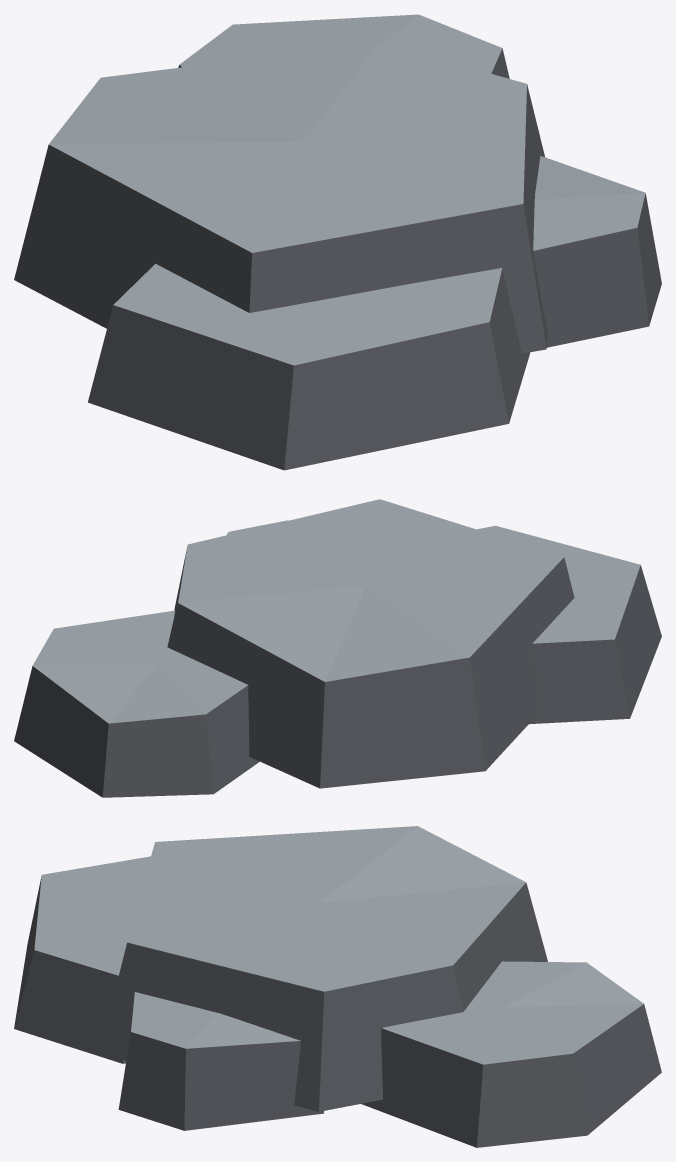
3 renders of one model, top to bottom at view 1: azimuth 30°, elevation 25°; view 2: azimuth 150°, elevation 25°; view 3: azimuth 270°, elevation 25°, orthographic. The views are drawn at different scales.
Visible parts, largest first — view 1: SK_04; view 2: SK_04; view 3: SK_04.
Part boxes in pixels (bbox=[...]): SK_04: bbox=[14, 14, 661, 470]; SK_04: bbox=[14, 499, 661, 797]; SK_04: bbox=[14, 826, 661, 1147].
Size of the model in its own units: 6.03 by 1.44 by 7.03.
